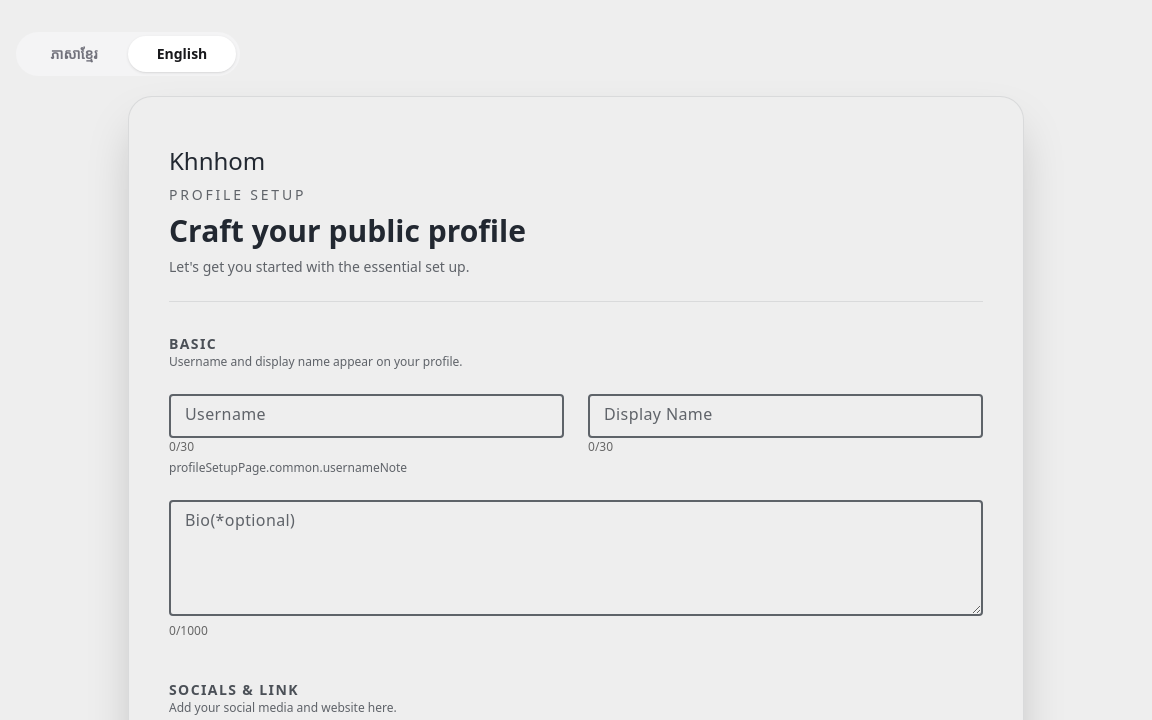
Test: ProfileForm › displays character count for username
Type "test" into the field labelled "Username" at (366, 416), box [169, 394, 564, 438]
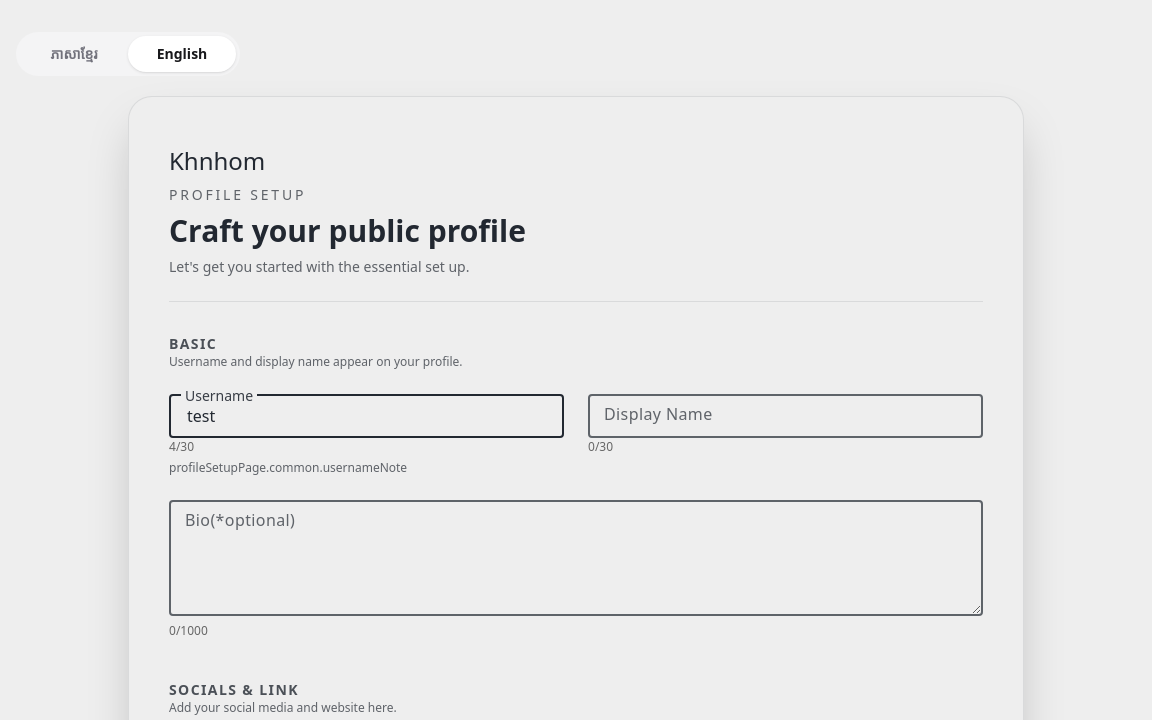
Now the text "4/30" is shown, box [169, 438, 194, 455]
